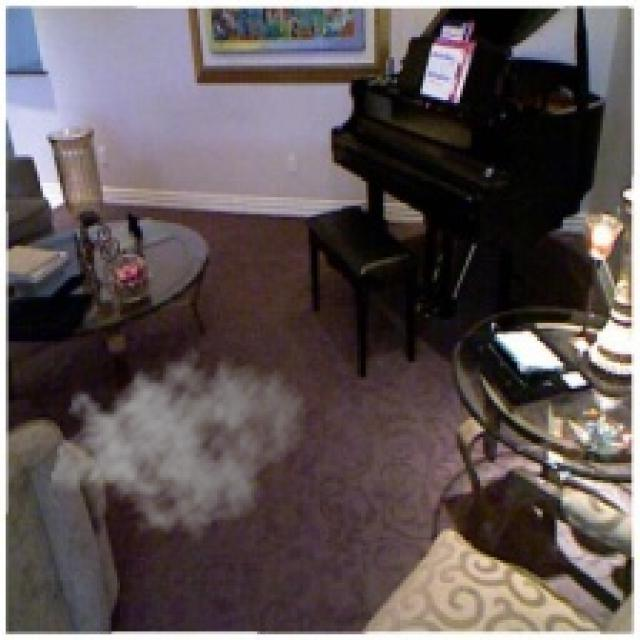smoke: (49, 337, 308, 543)
